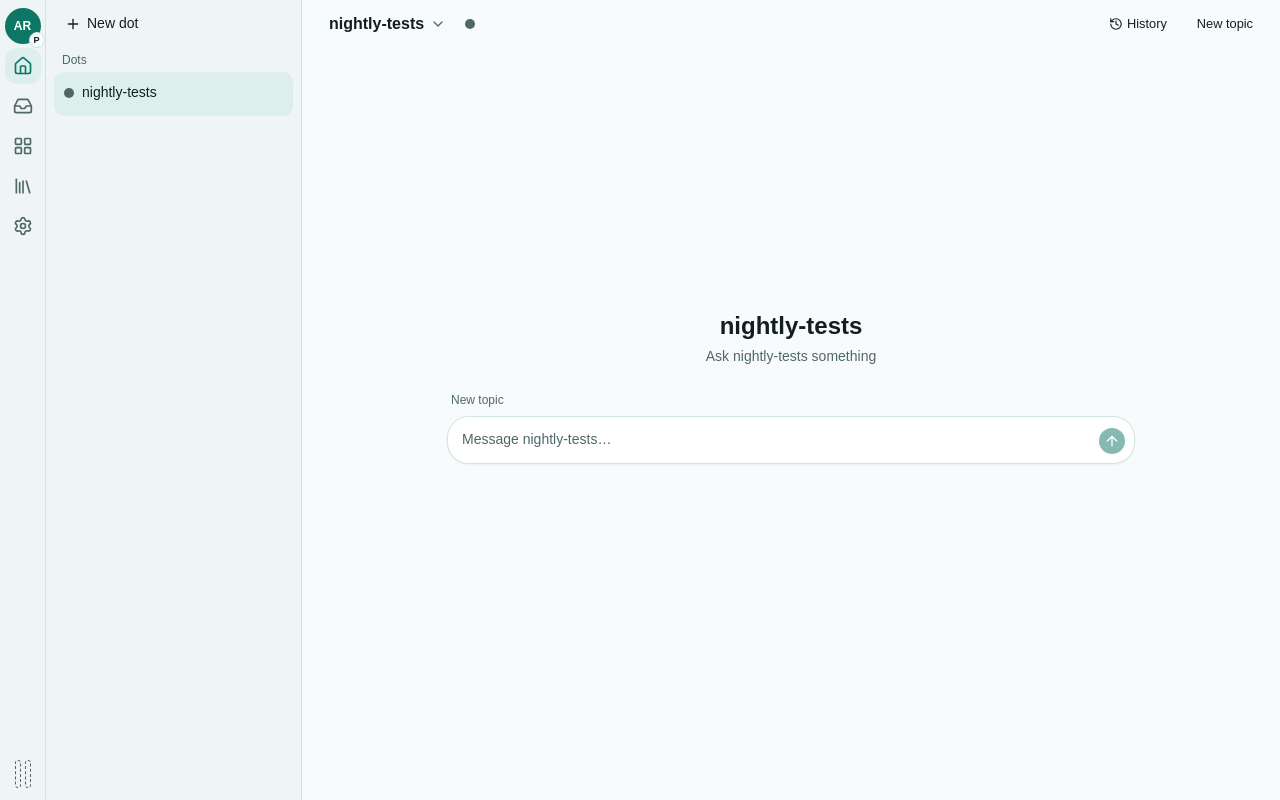
Test: a dot's conversation › turns the greeting into the conversation with the first message
In the text box labelled "Message": (773, 440) [456,425,1090,455], type "Hello there"
Then press Enter
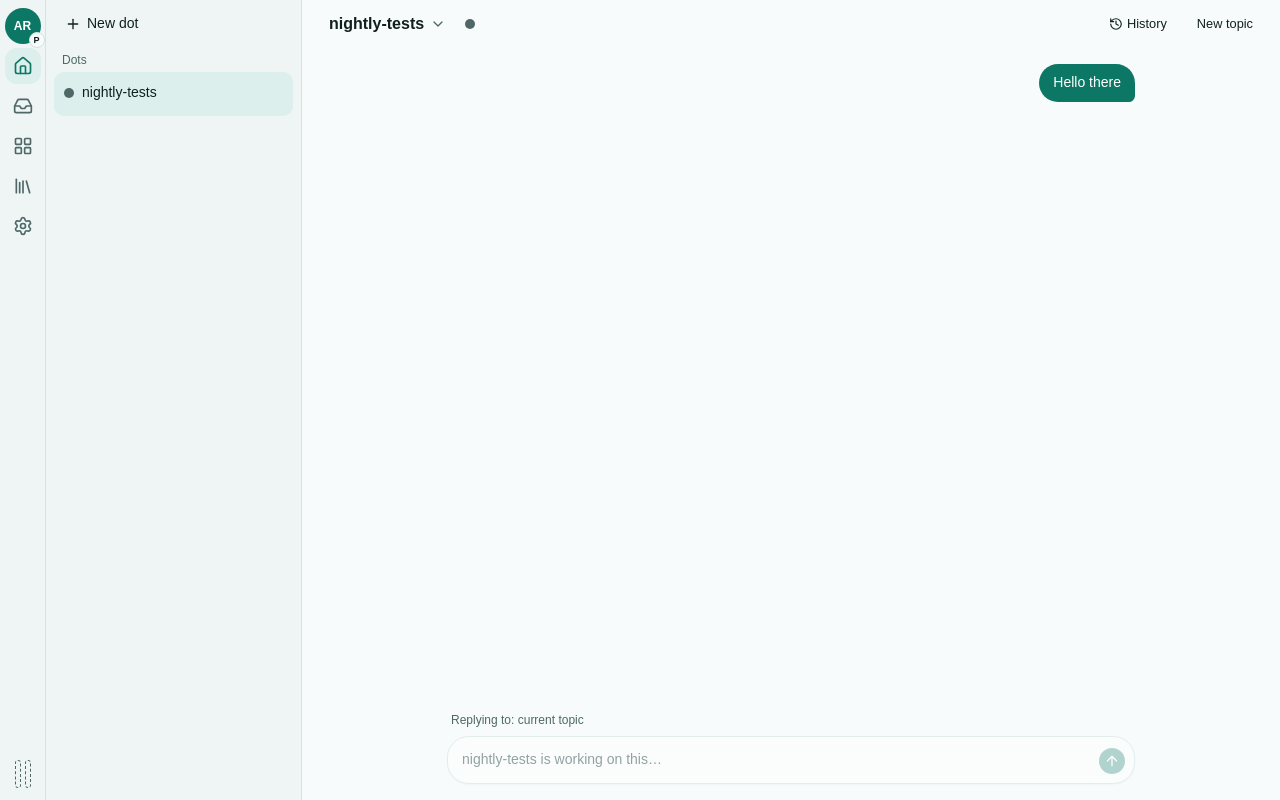
Expected: the text "Hello there" is shown, [1039,64,1135,102]
